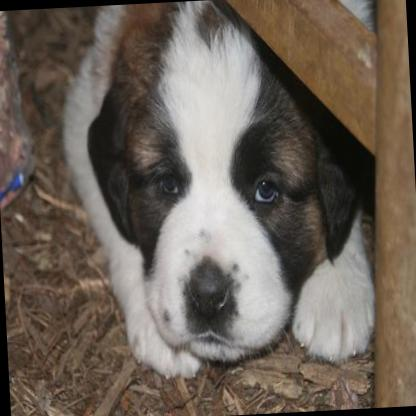Saint_Bernard: (52, 0, 392, 379)
